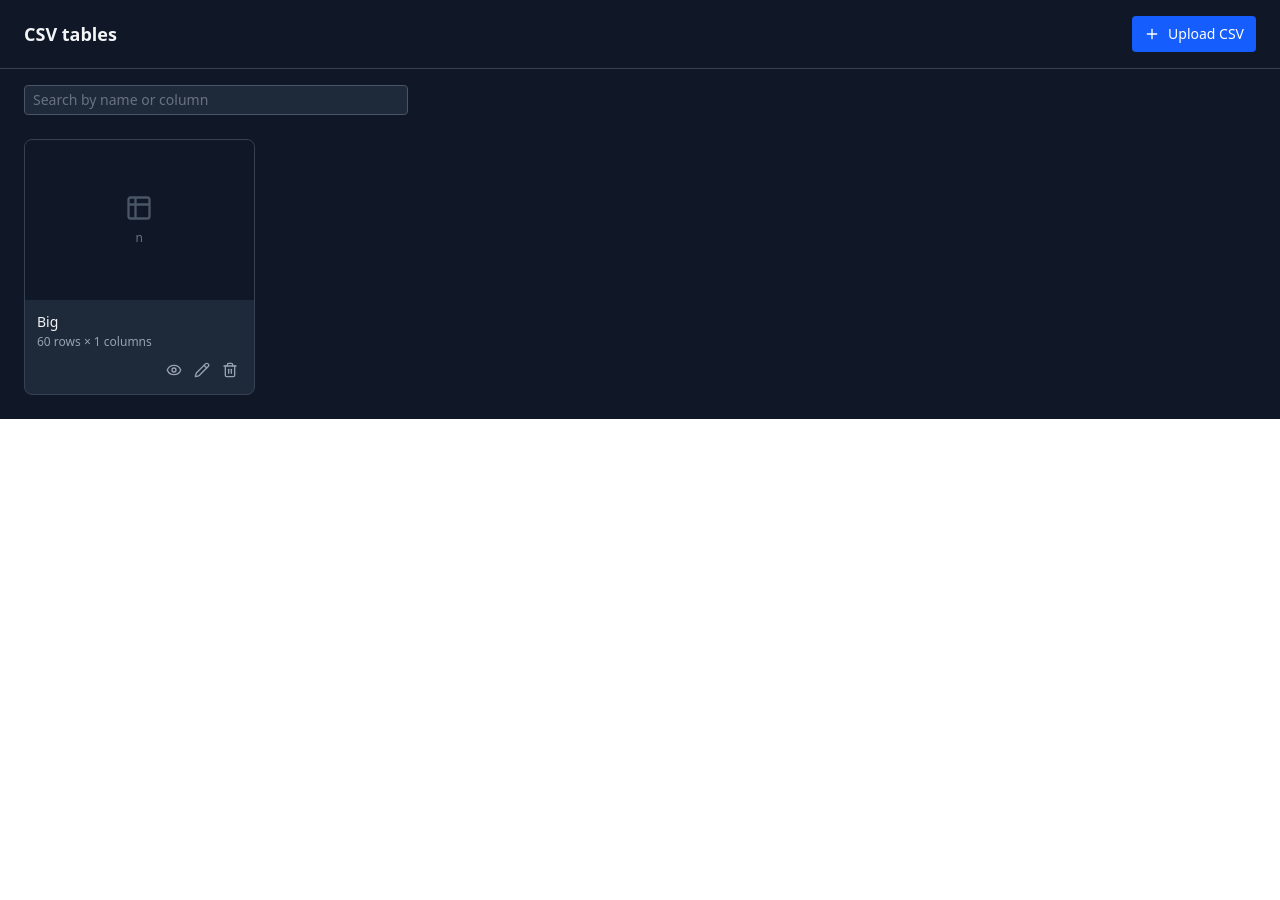
Scenario: CsvSection › notes truncation in the view dialog for a long table
Expected: the text "Big" is shown, [37,312,58,332]
Click the button named "View" at (174, 370), box [162,358,186,382]
(page scrolled)
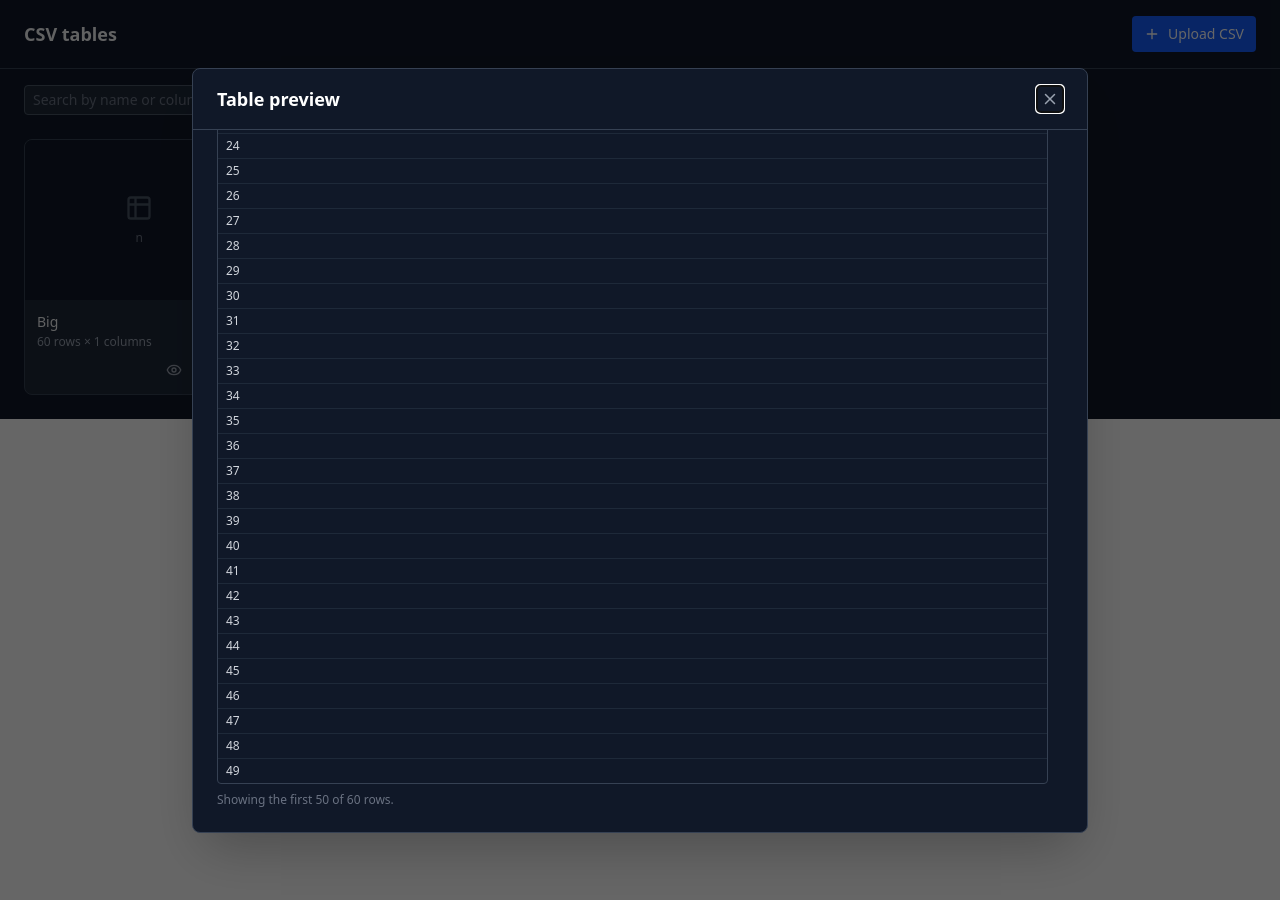
Now the text "Showing the first 50 of 60 rows." is shown, box [217,790,394,808]
